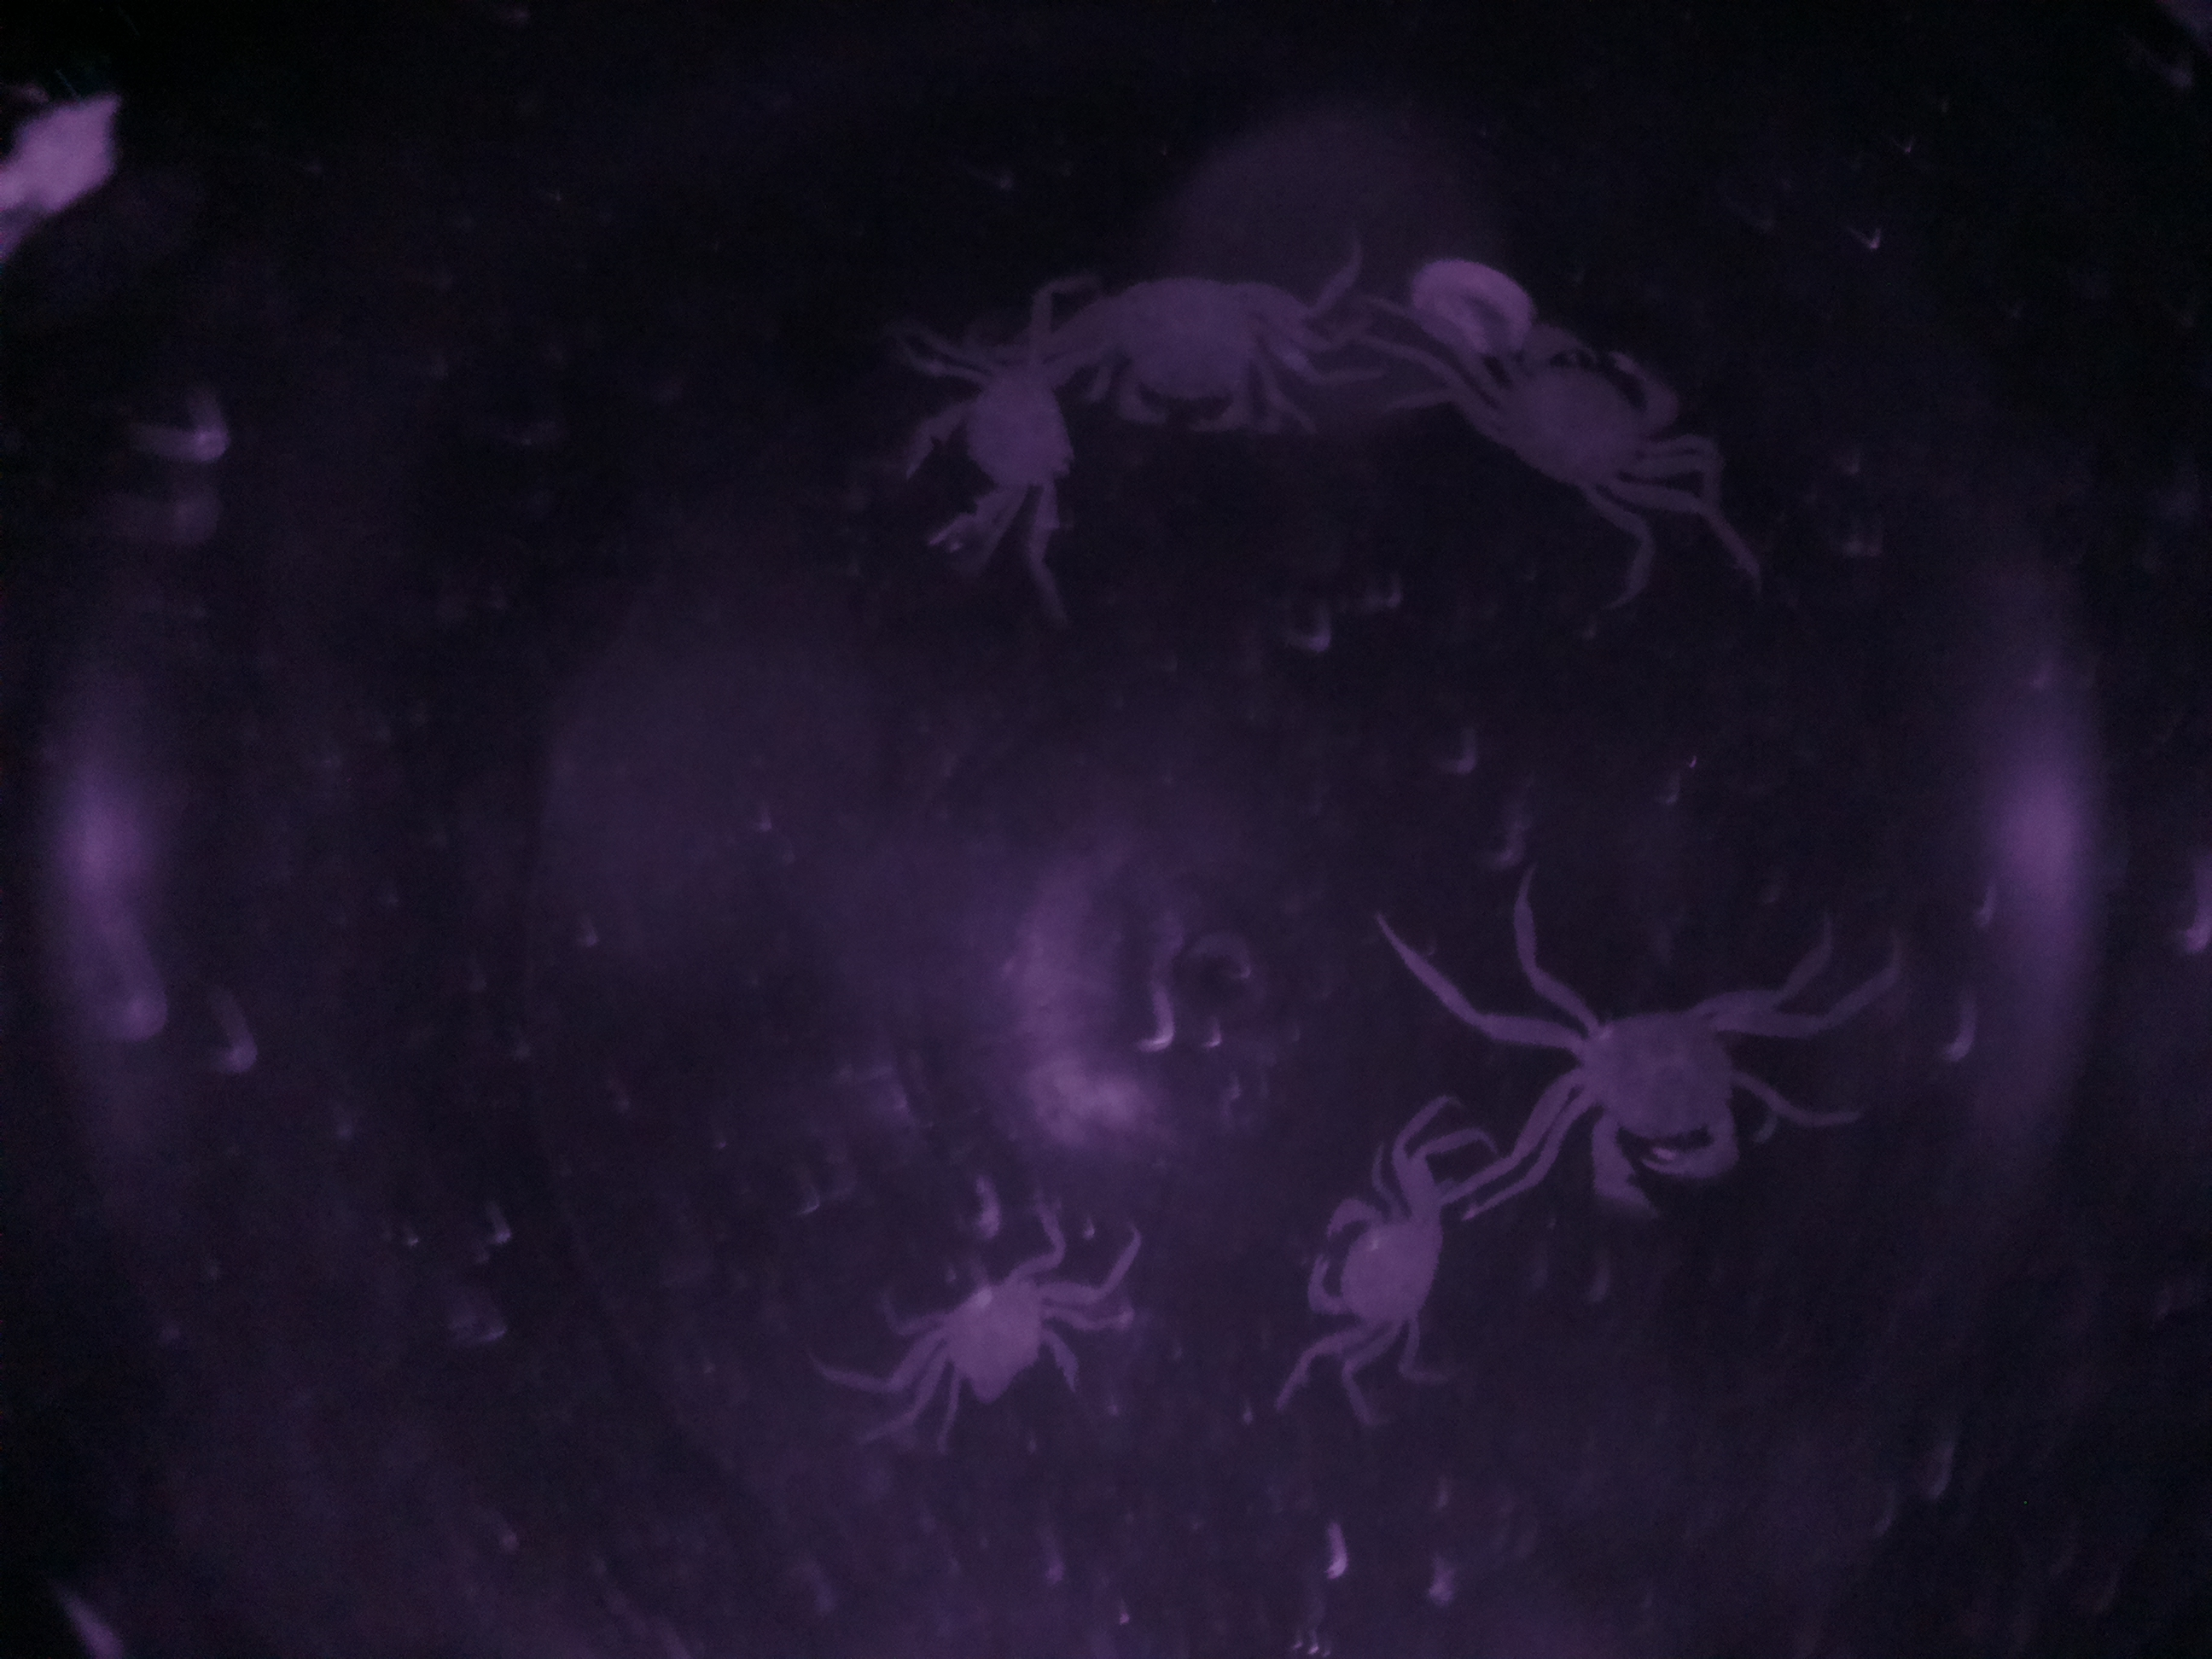Crab: (1501, 986, 1836, 1241), (1433, 314, 1712, 518), (887, 1225, 1113, 1464), (1280, 1136, 1491, 1377)
